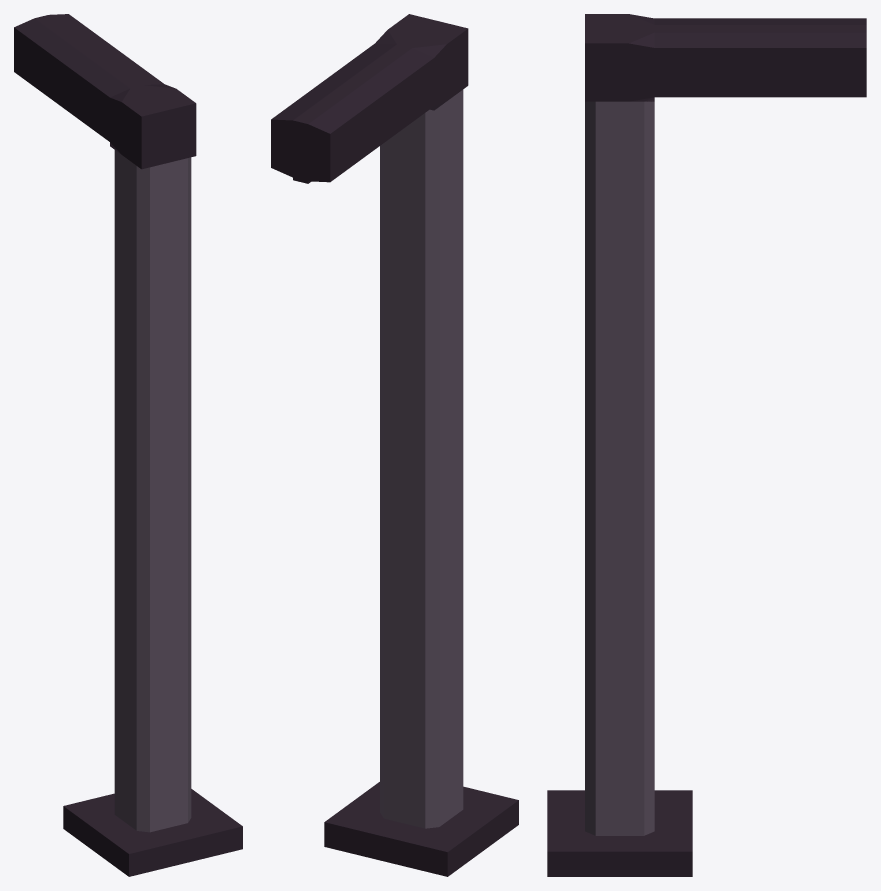
File: Lamp.fbx
3 views of the same model, side by side, from view 1: azimuth 30°, elevation 25°; view 2: azimuth 150°, elevation 25°; view 3: azimuth 270°, elevation 25° (orthographic). The views are drawn at different scales.
Visible parts, largest first — view 1: Cube; view 2: Cube; view 3: Cube.
Boxes of the visible parts, x1,y1,x2,y2 form: Cube: (14,14,242,876); Cube: (271,14,518,876); Cube: (547,14,866,876).
Bounding box in the file's own units: 10.19 × 63.31 × 22.41.
